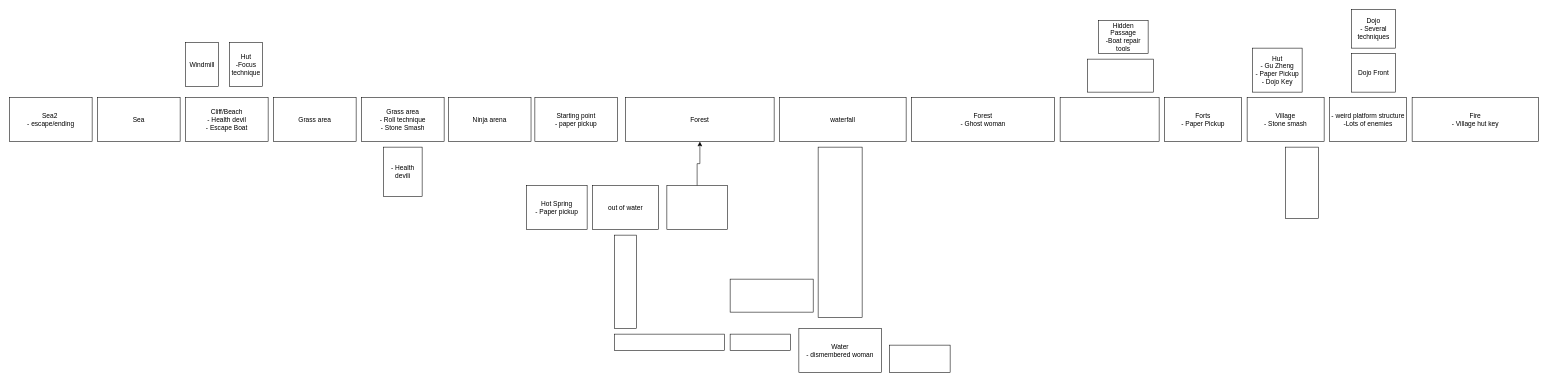
Image size: 1548x382. Some labels were removed from this diagram. Each missing label, with the centre of its shape:
"- Granary key" goes at pixel 669 342.
"Cave" goes at pixel 696 207.
"Cave - Health Devil" goes at pixel 771 295.
"Forest - Granary location" goes at pixel 1109 119.
"Granary" goes at pixel 1120 75.
"Water" goes at pixel 760 342.
"Waterfall Drop" goes at pixel 840 232.
"Well -Ghost woman -Paper pickup" goes at pixel 1302 183.
